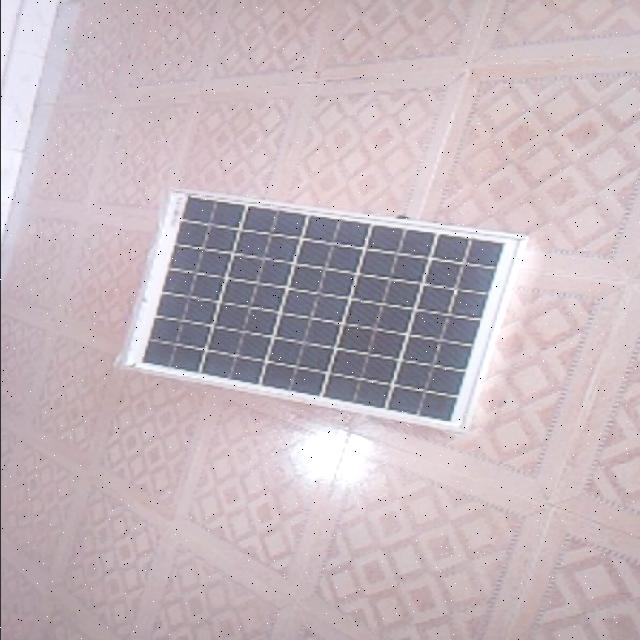Normal Solar Panel: (117, 190, 526, 430)
